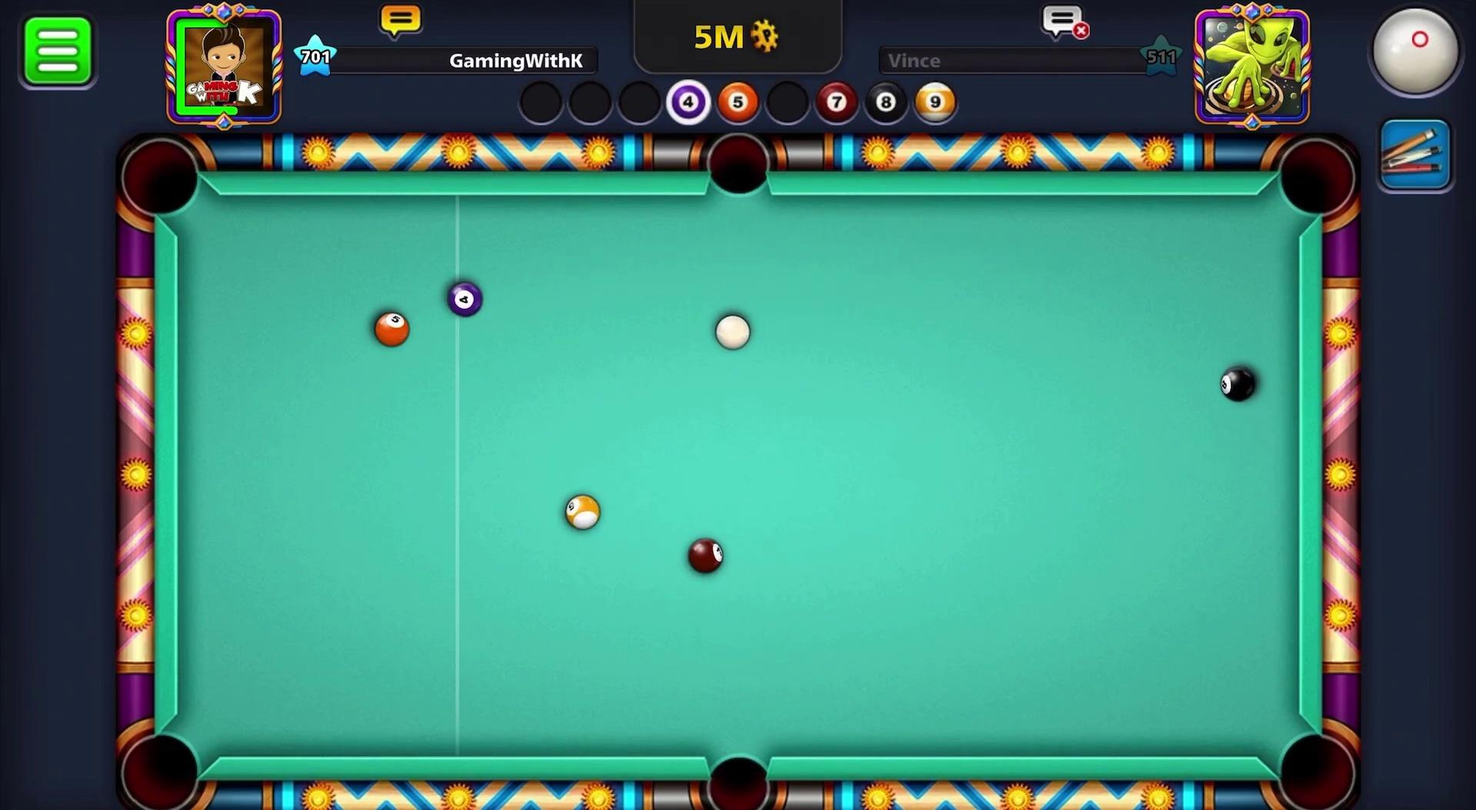Ball: (680, 534, 731, 580), (560, 488, 603, 535), (371, 304, 411, 352), (1218, 358, 1259, 402), (445, 275, 483, 318)
Hole: (1267, 132, 1365, 230), (1264, 717, 1364, 809), (113, 131, 205, 227), (111, 722, 208, 809), (687, 734, 784, 809), (700, 125, 781, 206)
Play_Area: (173, 194, 1294, 762)
Spin: (1351, 0, 1475, 112)
White: (708, 307, 758, 353)
